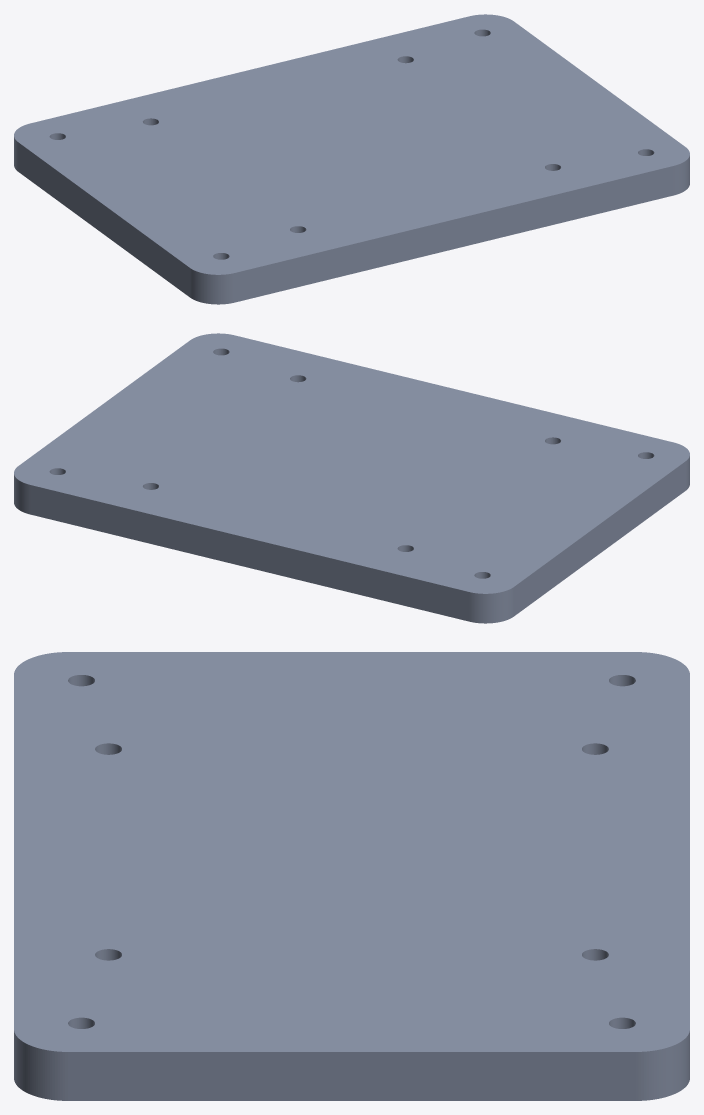
The model's file is irb1200_FloorAdapter.dae.
3 views of the same model, one above another, from view 1: azimuth 30°, elevation 25°; view 2: azimuth 150°, elevation 25°; view 3: azimuth 270°, elevation 25° (orthographic). The views are drawn at different scales.
Visible parts, largest first — view 1: node0; view 2: node0; view 3: node0.
Part boxes in pixels (bbox=[...]): node0: bbox=[14, 14, 689, 304]; node0: bbox=[14, 333, 689, 623]; node0: bbox=[14, 652, 689, 1100].
Bounding box in the file's own units: 0.35 × 0.25 × 0.02.
